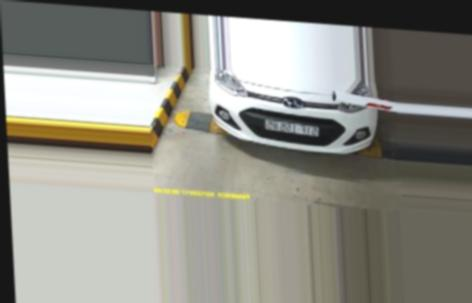License_Plate: (263, 117, 322, 140)
